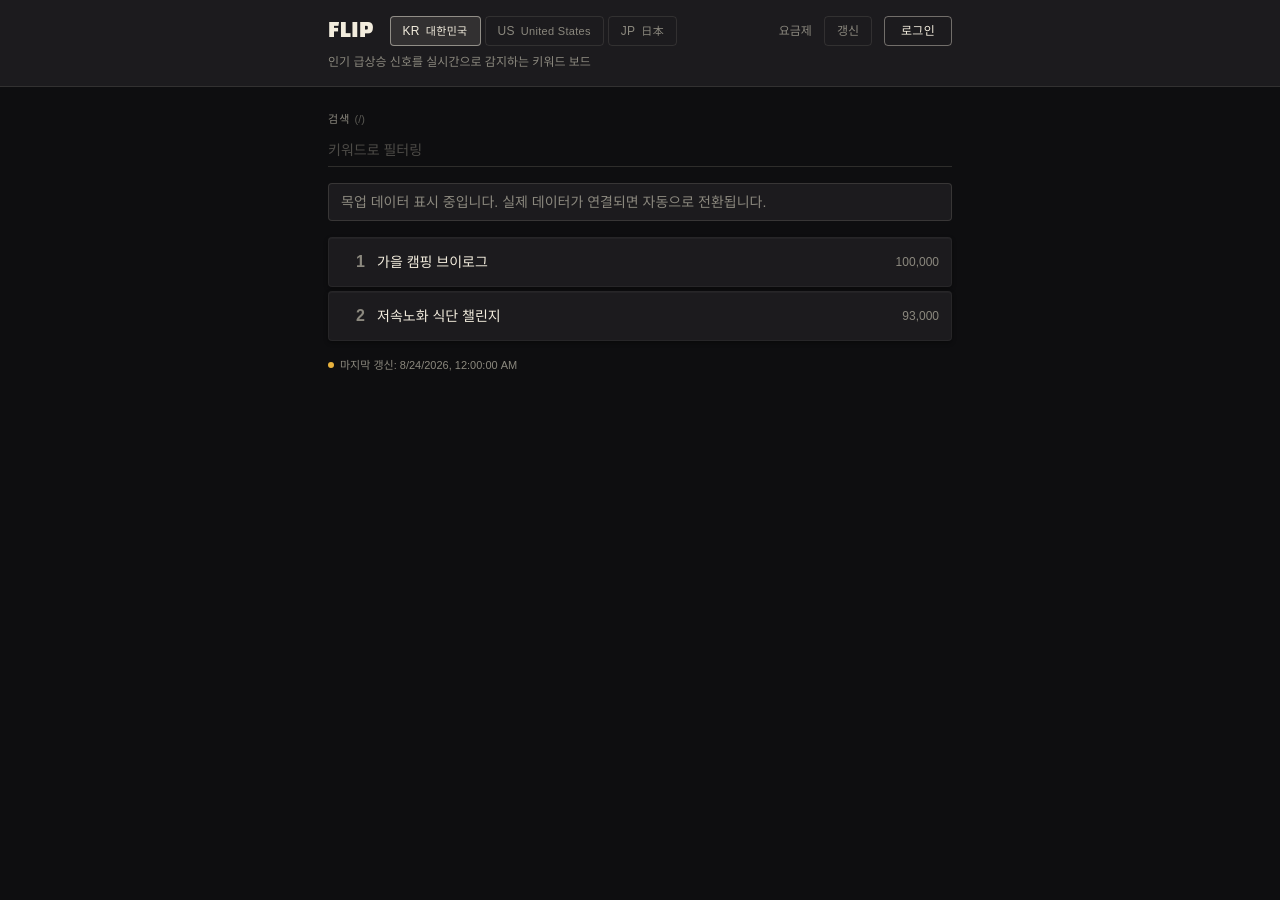
Test case: Home dashboard › opens a keyword detail view with a rank-history chart when enough history exists
This screenshot has width=1280, height=900.
Click the button "가을 캠핑 브이로그" at (432, 262), box [377,248,884,276]
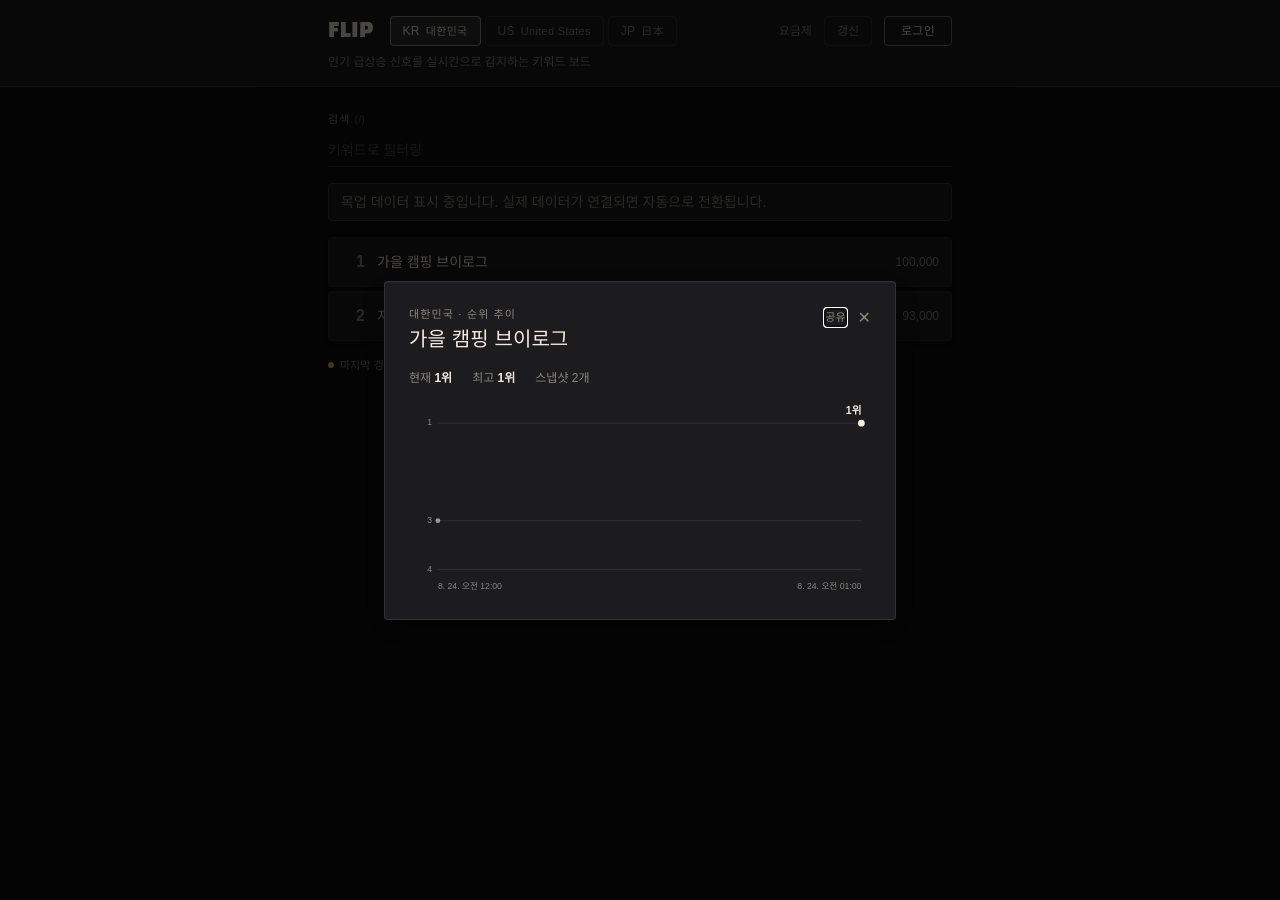
Now the text "현재 1위" is shown, box [409,370,452,386]
Now the text "최고 1위" is shown, box [472,370,515,386]
Now the table is shown, box [408,594,556,690]
